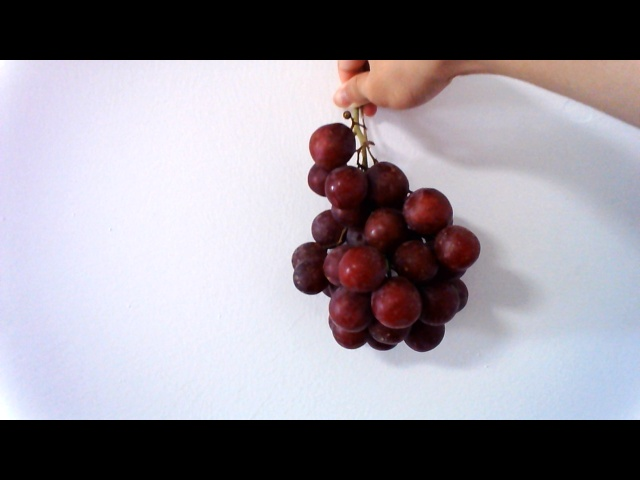grape: (286, 108, 488, 357)
